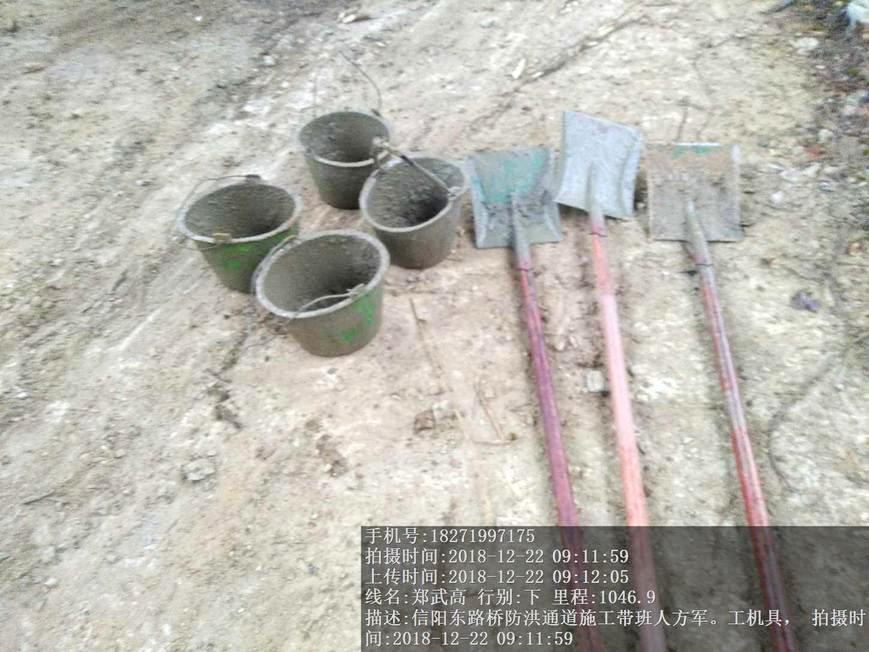SNT: (246, 232, 393, 364), (362, 164, 463, 267), (176, 178, 303, 257), (293, 110, 371, 207)
TQ: (647, 138, 773, 508), (554, 108, 646, 529), (468, 143, 563, 515)
